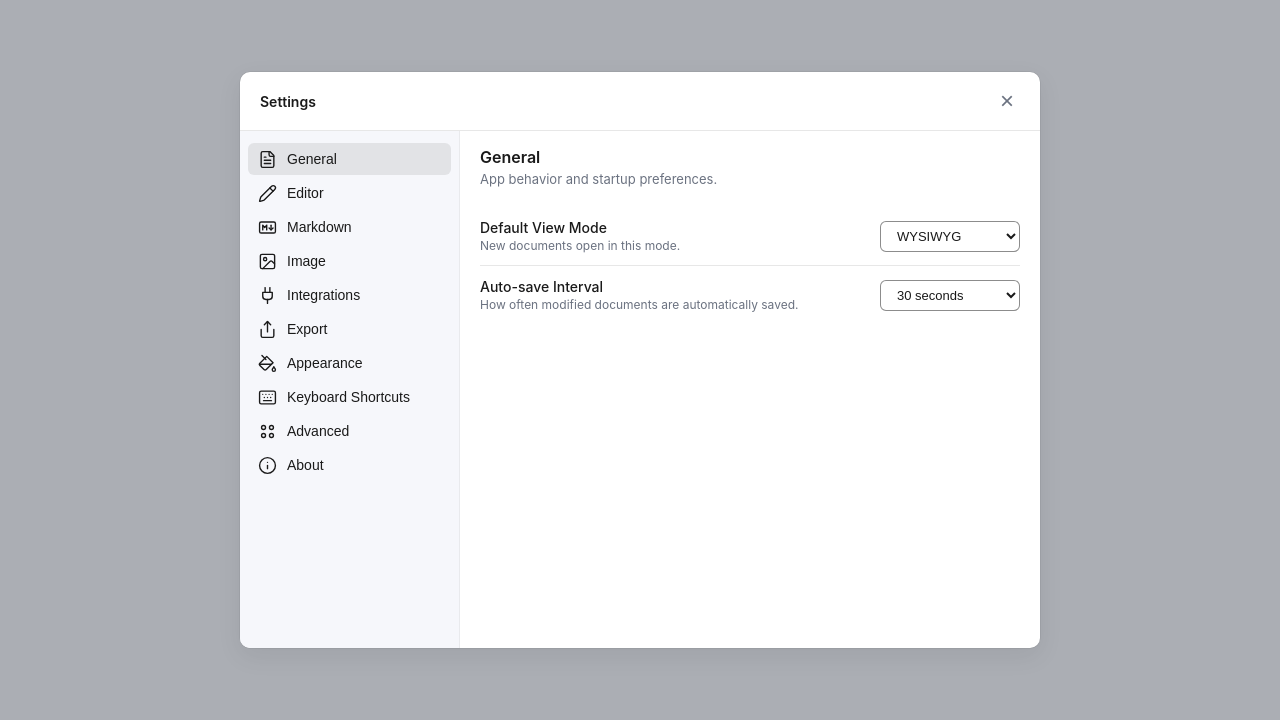
Test: D166 — reopening Settings does not re-run the About update check › C6: closing and reopening inside one act (no paint between) still runs no check
Click the button "About". click: [350, 465]
box: [248,449,451,481]
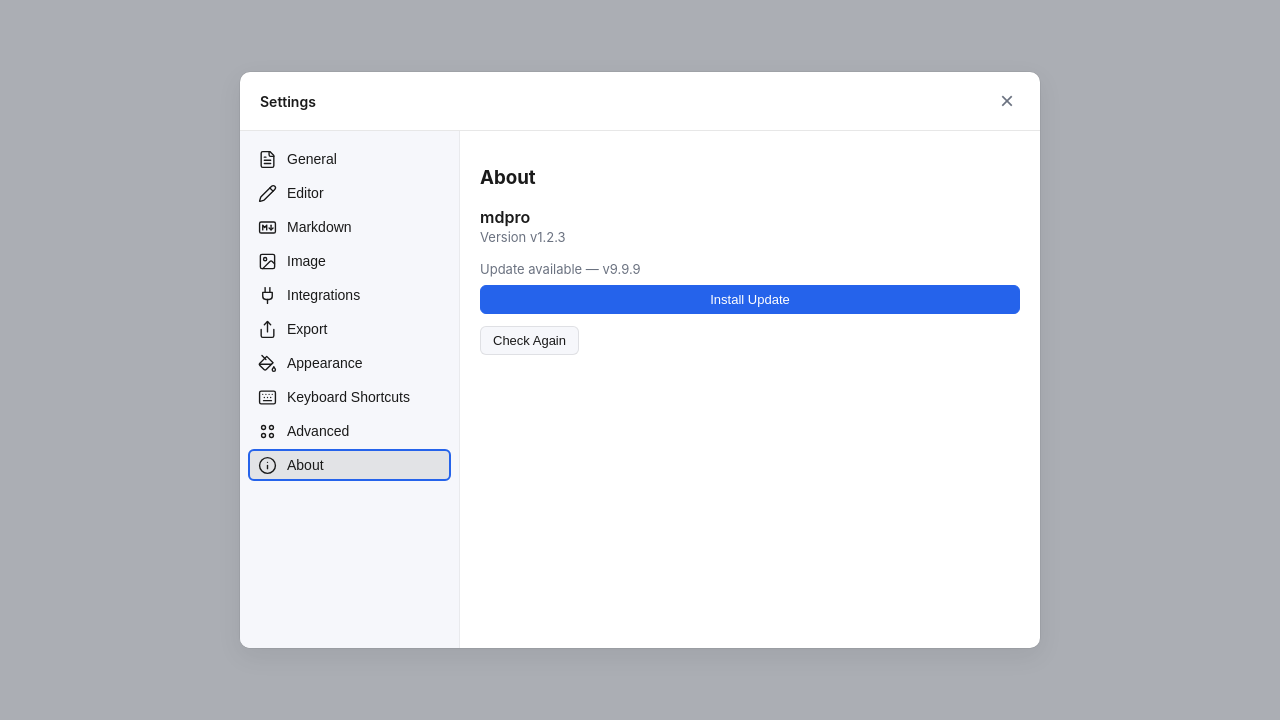
Expected: the heading "About" is shown, [480,166,536,189]
Expected: the text "Update available — v9.9.9" is shown, [480,261,641,277]
